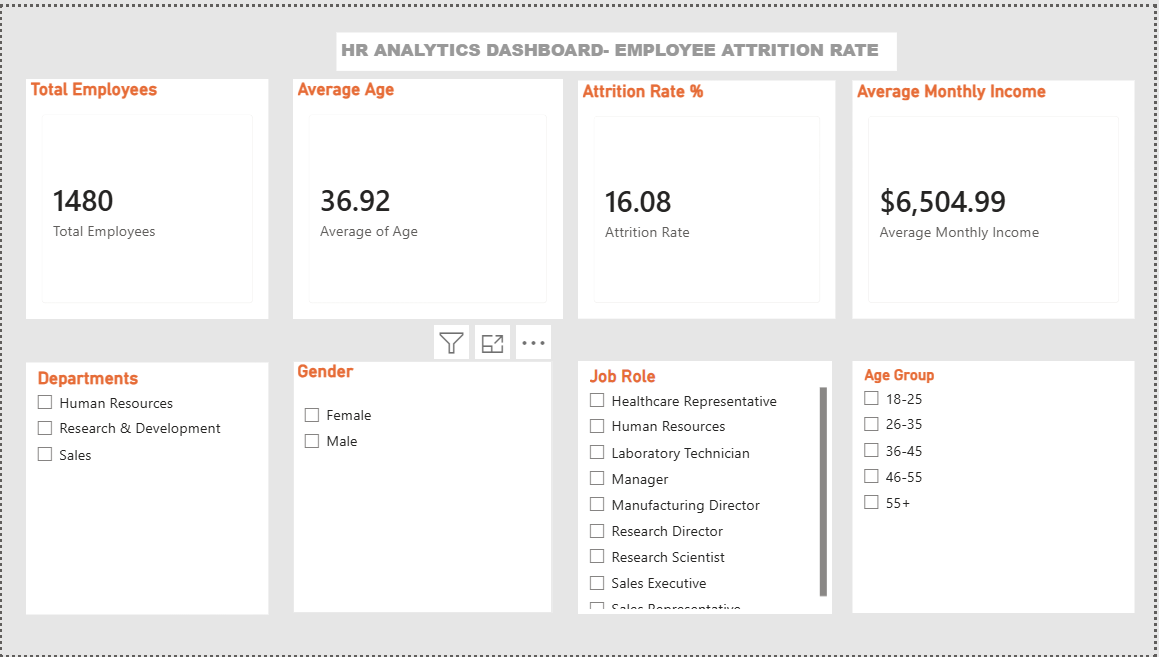

Layout of this report page (visuals, bound fields, positions):
{"tool":"powerbi","page":{"name":"Overview","canvas":[1280,720],"ordinal":0},"visuals":[{"type":"cardVisual","title":"Total Employees","fields":{"Data":["HR_Analytics_Data.Total Employees"]},"box":[27.3,80.3,269.5,266.5],"z":0},{"type":"cardVisual","title":"Attrition Rate %","fields":{"Data":["HR_Analytics_Data.Attrition Rate"]},"box":[640.5,81.8,286.2,265],"z":1000},{"type":"cardVisual","title":"Average Age","fields":{"Data":["Avg(HR_Analytics_Data.Age)"]},"box":[324,80.3,299.8,266.5],"z":2000},{"type":"cardVisual","title":"Average Monthly Income","fields":{"Data":["HR_Analytics_Data.Average Monthly Income"]},"box":[944.9,81.8,313.4,265],"z":3000},{"type":"slicer","fields":{"Values":["HR_Analytics_Data.Department"]},"box":[27.3,395.2,269.5,280.1],"z":4000},{"type":"slicer","title":"Gender","fields":{"Values":["HR_Analytics_Data.Gender"]},"box":[324,393.7,287.7,280.1],"z":5000},{"type":"slicer","fields":{"Values":["HR_Analytics_Data.JobRole"]},"box":[640.5,393.7,281.6,280.1],"z":6000},{"type":"textbox","box":[372.5,28.8,622.3,42.4],"z":7000},{"type":"slicer","fields":{"Values":["HR_Analytics_Data.AgeGroup"]},"box":[944.9,393.7,313.4,280.1],"z":8000}]}

Visuals, with their boxes in screenshot pixels (x1, y1, x2, y2), scaled from the page's 1280x720 canvas onto the 1159x657 screenshot:
"Total Employees" cardVisual: region(25, 73, 269, 316)
"Attrition Rate %" cardVisual: region(580, 75, 839, 316)
"Average Age" cardVisual: region(293, 73, 565, 316)
"Average Monthly Income" cardVisual: region(856, 75, 1139, 316)
slicer - HR_Analytics_Data.Department: region(25, 361, 269, 616)
"Gender" slicer: region(293, 359, 554, 615)
slicer - HR_Analytics_Data.JobRole: region(580, 359, 835, 615)
textbox: region(337, 26, 901, 65)
slicer - HR_Analytics_Data.AgeGroup: region(856, 359, 1139, 615)
